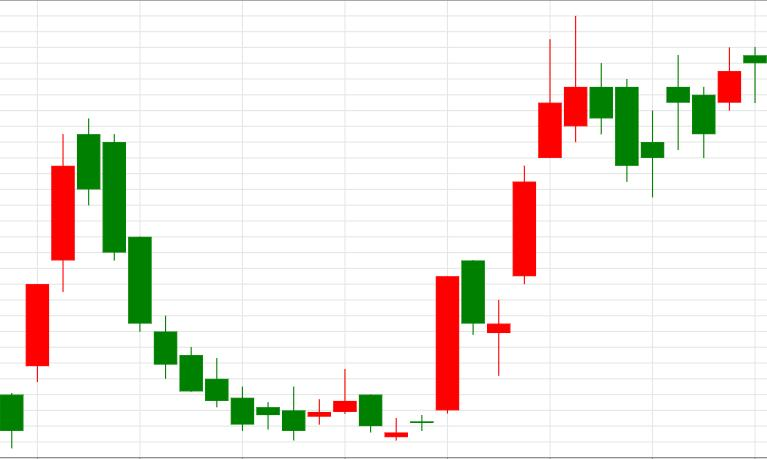shooting_star_fall: (384, 15, 587, 441)
